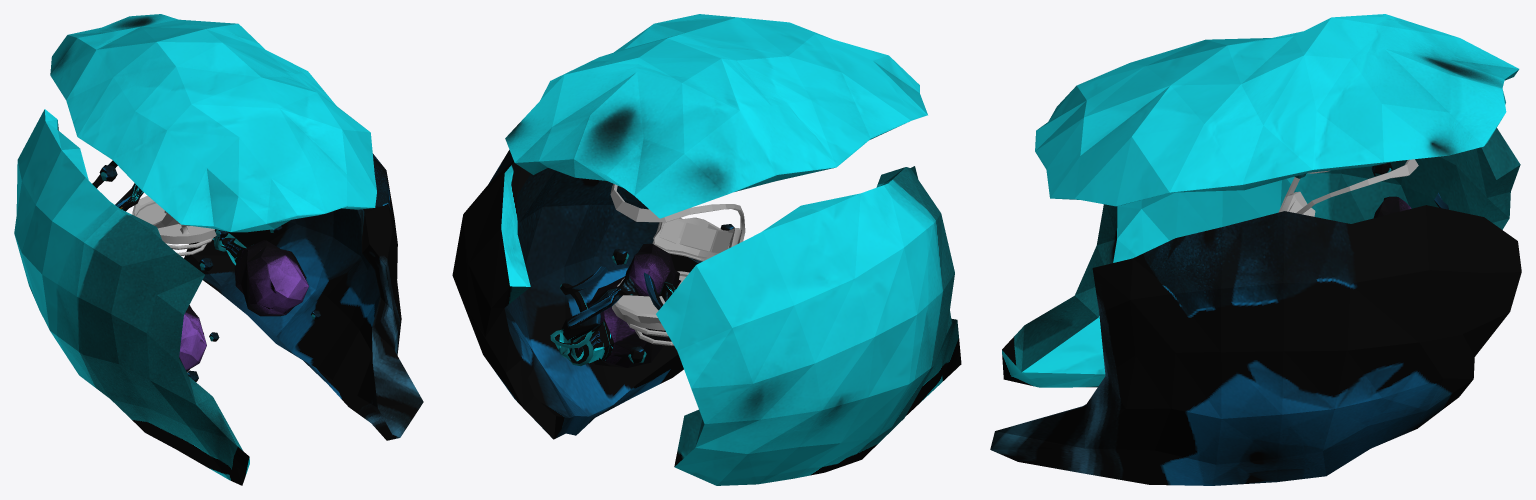
Rendered from neutrophil_Cockpit 1.fbx.
The picture shows the model from 3 angles, left to right: view 1: azimuth 30°, elevation 25°; view 2: azimuth 150°, elevation 25°; view 3: azimuth 270°, elevation 25°; orthographic projection. The views are drawn at different scales.
Parts seen in each view (by area): view 1: polySurface97, polySurface110, polySurface109, polySurface111, polySurface125, pPipe1; view 2: polySurface110, polySurface97, polySurface109, polySurface111, polySurface127, polySurface98, polySurface124, polySurface121, polySurface125; view 3: polySurface109, polySurface97, polySurface110, polySurface127.
Part boxes in pixels (box(x1,y1,x2,y2)): polySurface97: box(50, 14, 376, 232); polySurface110: box(14, 109, 249, 485); polySurface109: box(184, 153, 423, 440); polySurface111: box(115, 183, 308, 371); polySurface125: box(136, 203, 209, 234); pPipe1: box(131, 200, 216, 244); polySurface110: box(656, 166, 961, 485); polySurface97: box(505, 14, 927, 218); polySurface109: box(452, 150, 702, 439); polySurface111: box(555, 243, 680, 367); polySurface127: box(610, 184, 745, 323); polySurface98: box(550, 266, 607, 366); polySurface124: box(653, 217, 741, 258); polySurface121: box(679, 222, 716, 251); polySurface125: box(619, 276, 685, 314); polySurface109: box(990, 205, 1521, 485); polySurface97: box(1035, 14, 1519, 206); polySurface110: box(1002, 128, 1520, 387); polySurface127: box(1278, 159, 1418, 214).
Bounding box in the file's own units: 8.79 × 8.63 × 10.32.
